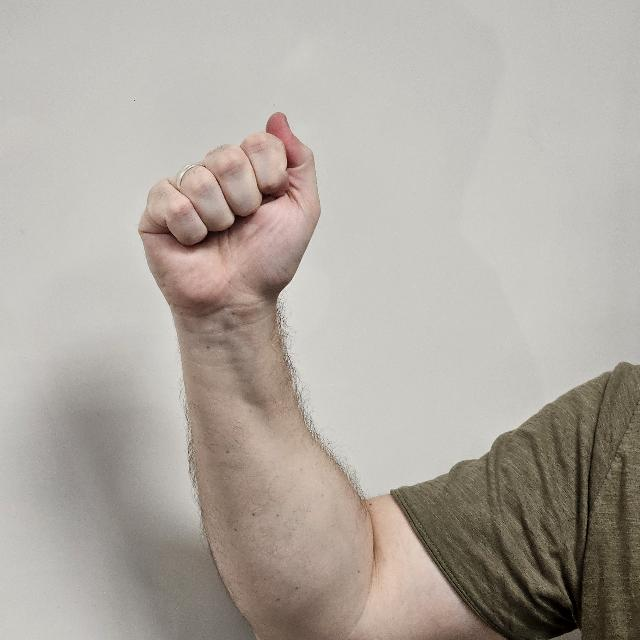Quadro: (142, 111, 322, 329)
